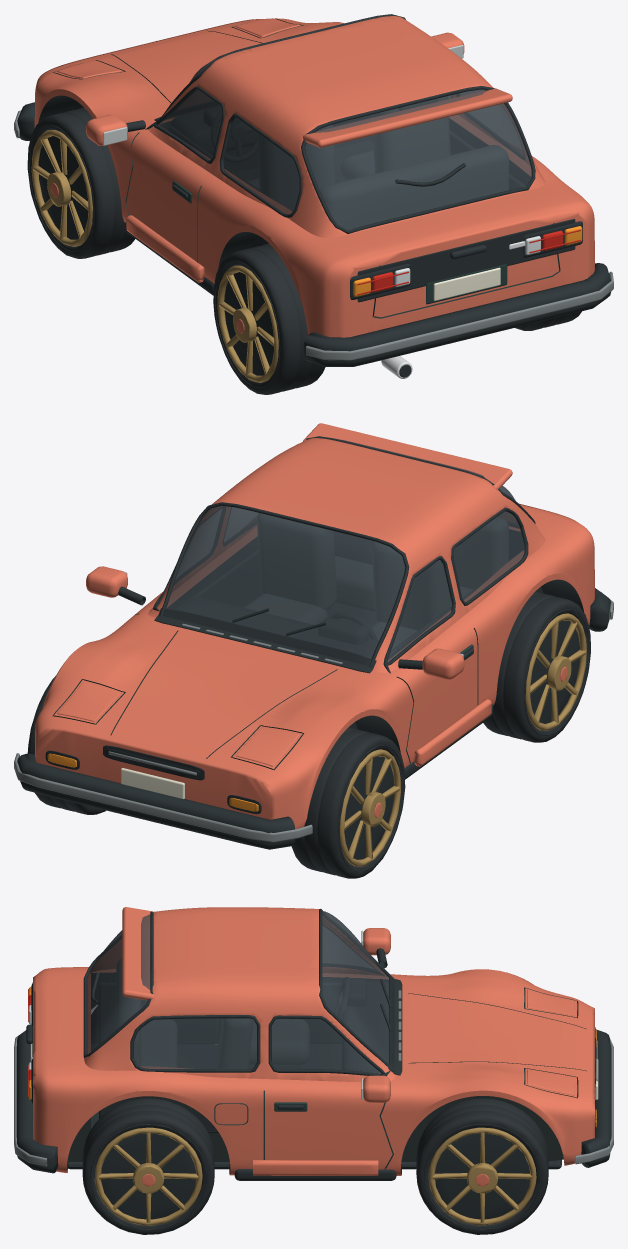
The model's file is hachi_lod1.fbx.
3 views of the same model, one above another, from view 1: azimuth 30°, elevation 25°; view 2: azimuth 150°, elevation 25°; view 3: azimuth 270°, elevation 25° (orthographic). The views are drawn at different scales.
Visible parts, largest first — view 1: Body, Wheel_RL_Mesh, Wheel_FL_Mesh; view 2: Body, Wheel_FL_Mesh, Wheel_RL_Mesh, Wheel_FR_Mesh; view 3: Body, Wheel_FR_Mesh, Wheel_RR_Mesh.
Part boxes in pixels (x1,y1,x2,y2): Body: (14,14,613,378); Wheel_RL_Mesh: (213,243,325,394); Wheel_FL_Mesh: (27,107,135,258); Body: (14,423,613,849); Wheel_FL_Mesh: (291,727,405,878); Wheel_RL_Mesh: (483,591,590,742); Wheel_FR_Mesh: (27,676,105,814); Body: (14,907,613,1180); Wheel_FR_Mesh: (416,1098,548,1234); Wheel_RR_Mesh: (82,1098,214,1234).
Bounding box in the file's own units: 231 × 151 × 363.
